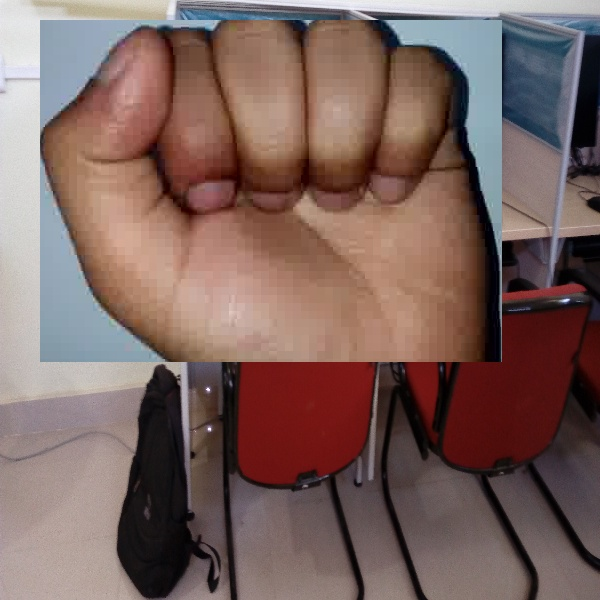A: (40, 20, 502, 362)
